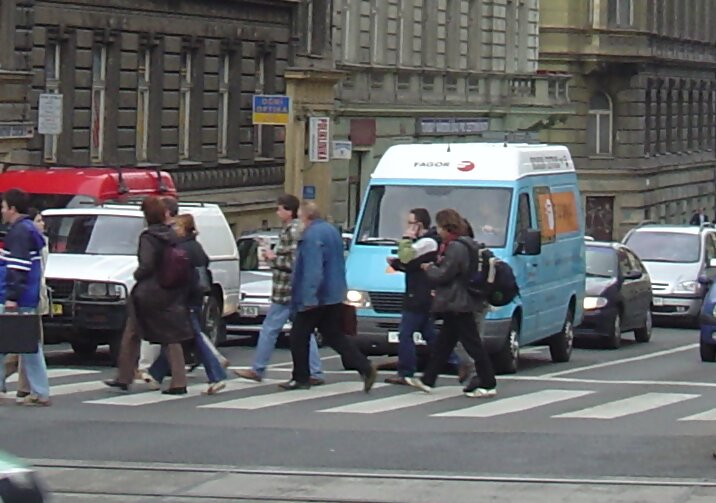person: (104, 194, 189, 394), (285, 203, 372, 392), (423, 208, 495, 398), (1, 187, 50, 406), (249, 195, 297, 381), (388, 207, 436, 390)
